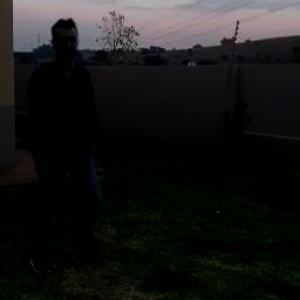follow: (22, 22, 94, 232)
